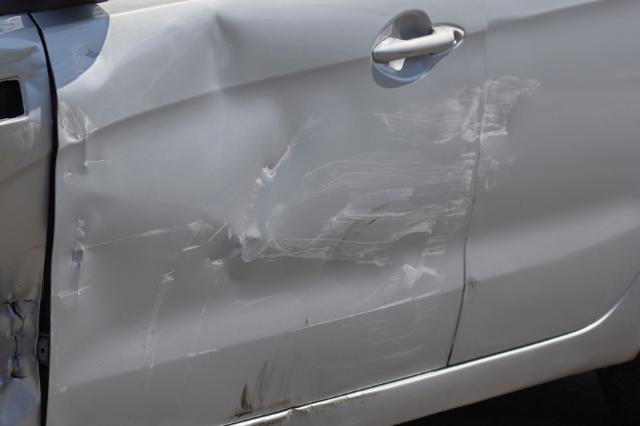Door: (36, 0, 486, 426), (472, 51, 559, 219)
Fender: (0, 271, 51, 394)
